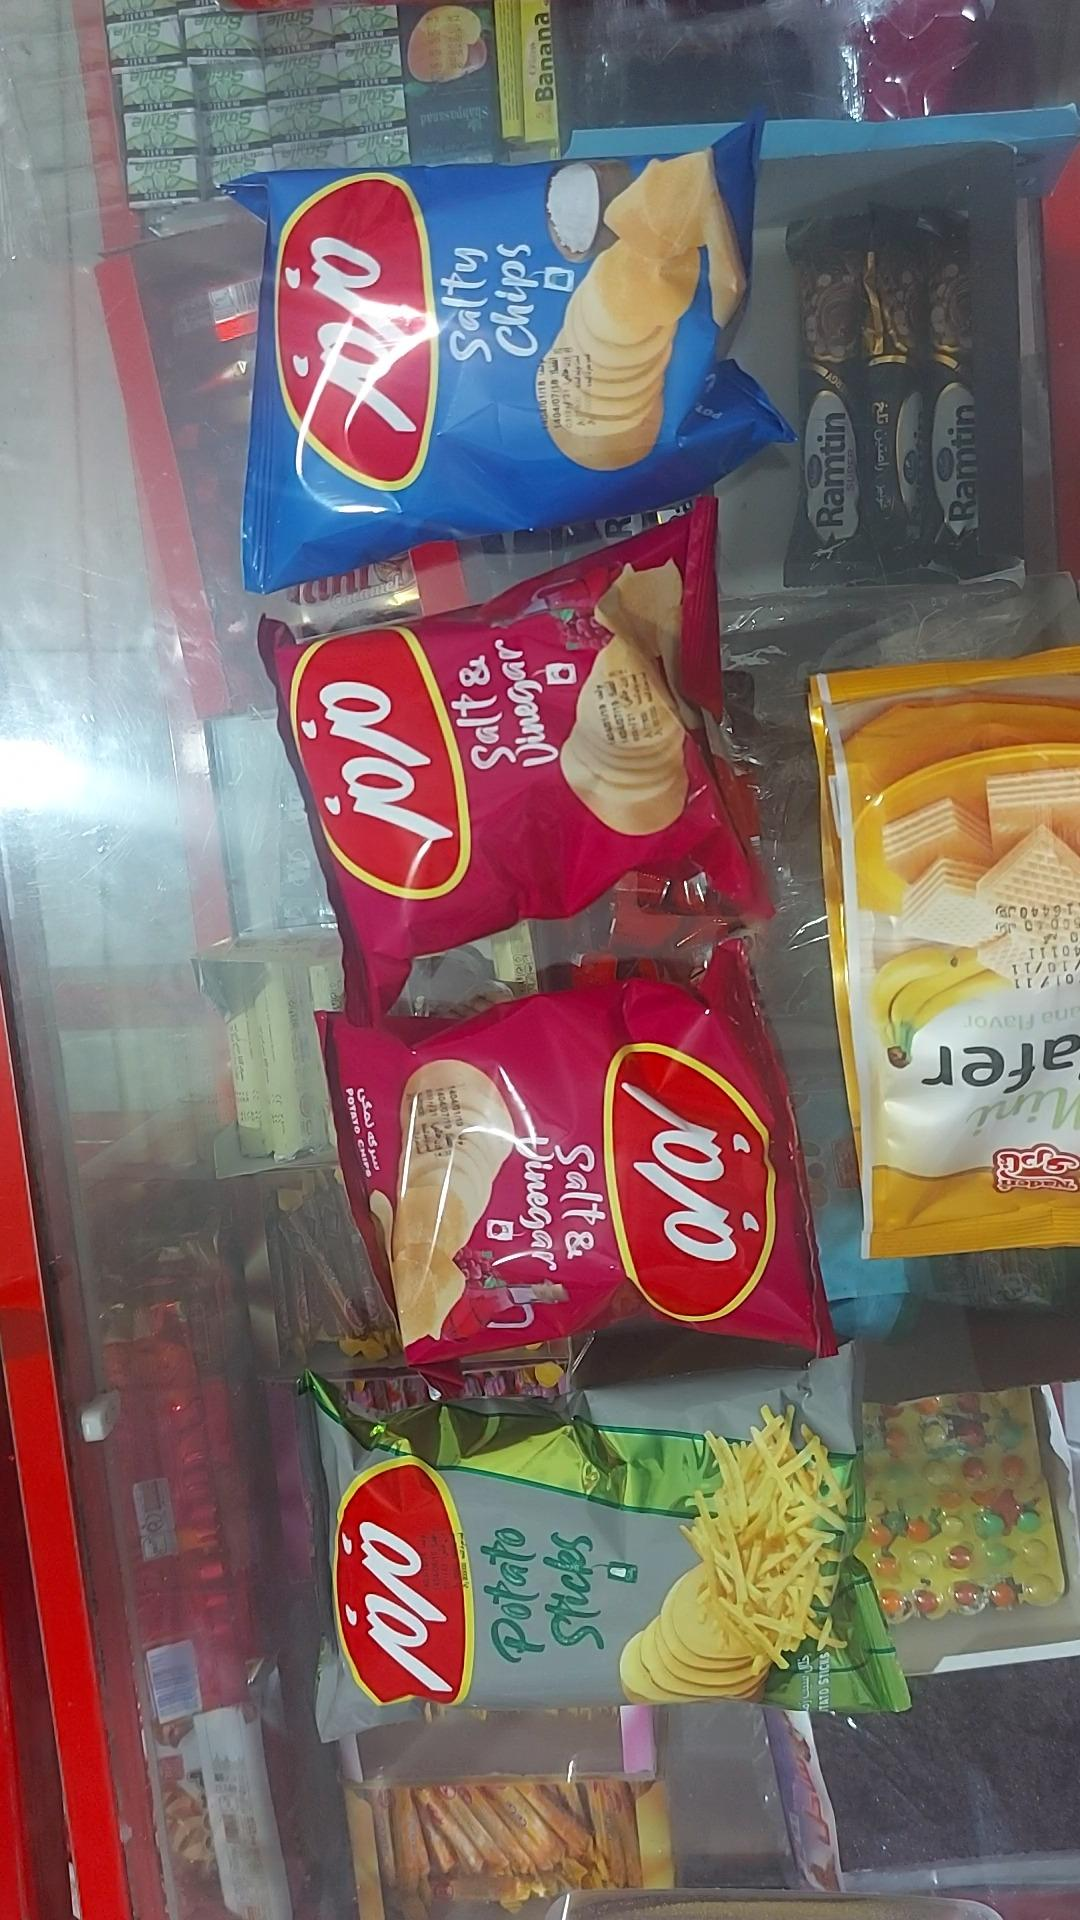Maz Maz potato sticks: (310, 1329, 905, 1729)
Maz Maz salty chips: (228, 123, 793, 593)
Maz Maz vinegar chips: (262, 497, 766, 1004), (314, 951, 822, 1348)
Naderi mini wafer: (811, 654, 1079, 1257)
